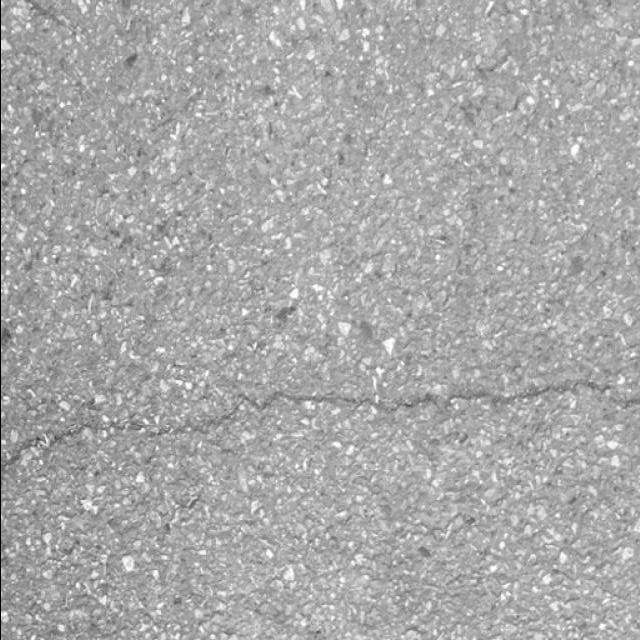SurfaceCrack: (1, 325, 640, 521)
